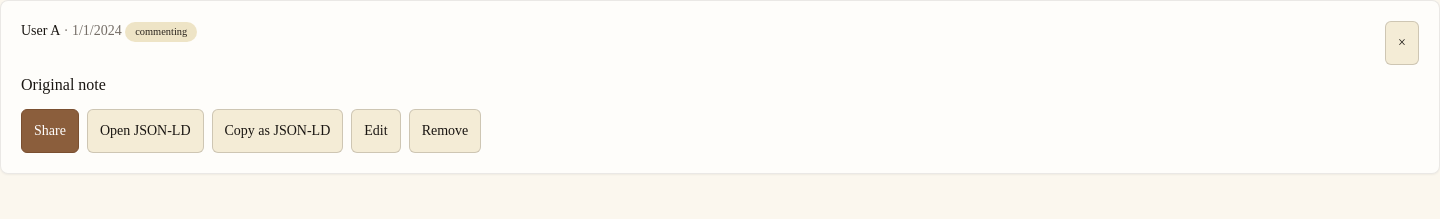
AnnotationPopover actions › falls back to copying the public annotation URL when native share is unavailable
The width and height of the screenshot is (1440, 219).
Click the button "Share" at (50, 131), box [21,109,79,153]
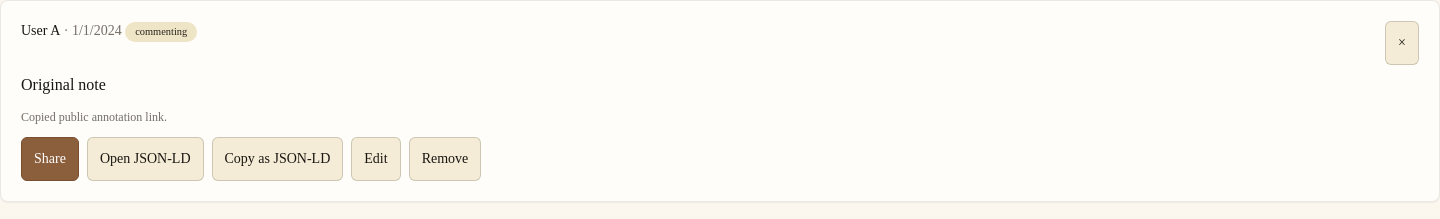
Expected: the text "Copied public annotation link." is shown, [21,110,167,124]
